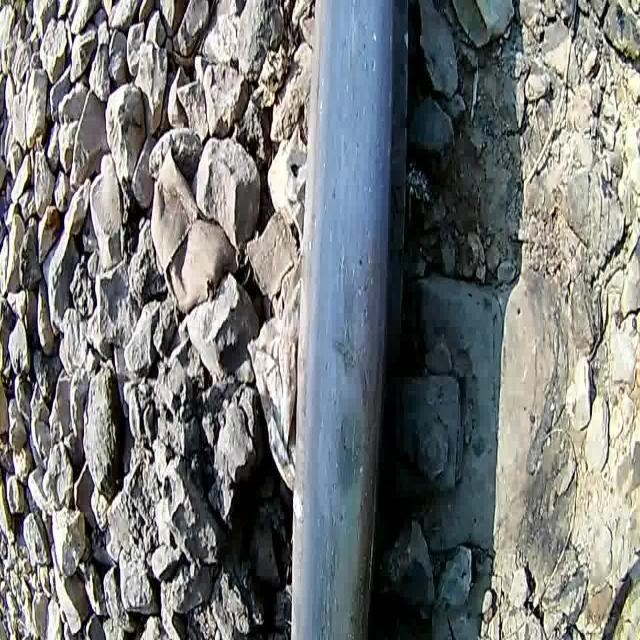Squats: (269, 0, 422, 640)
